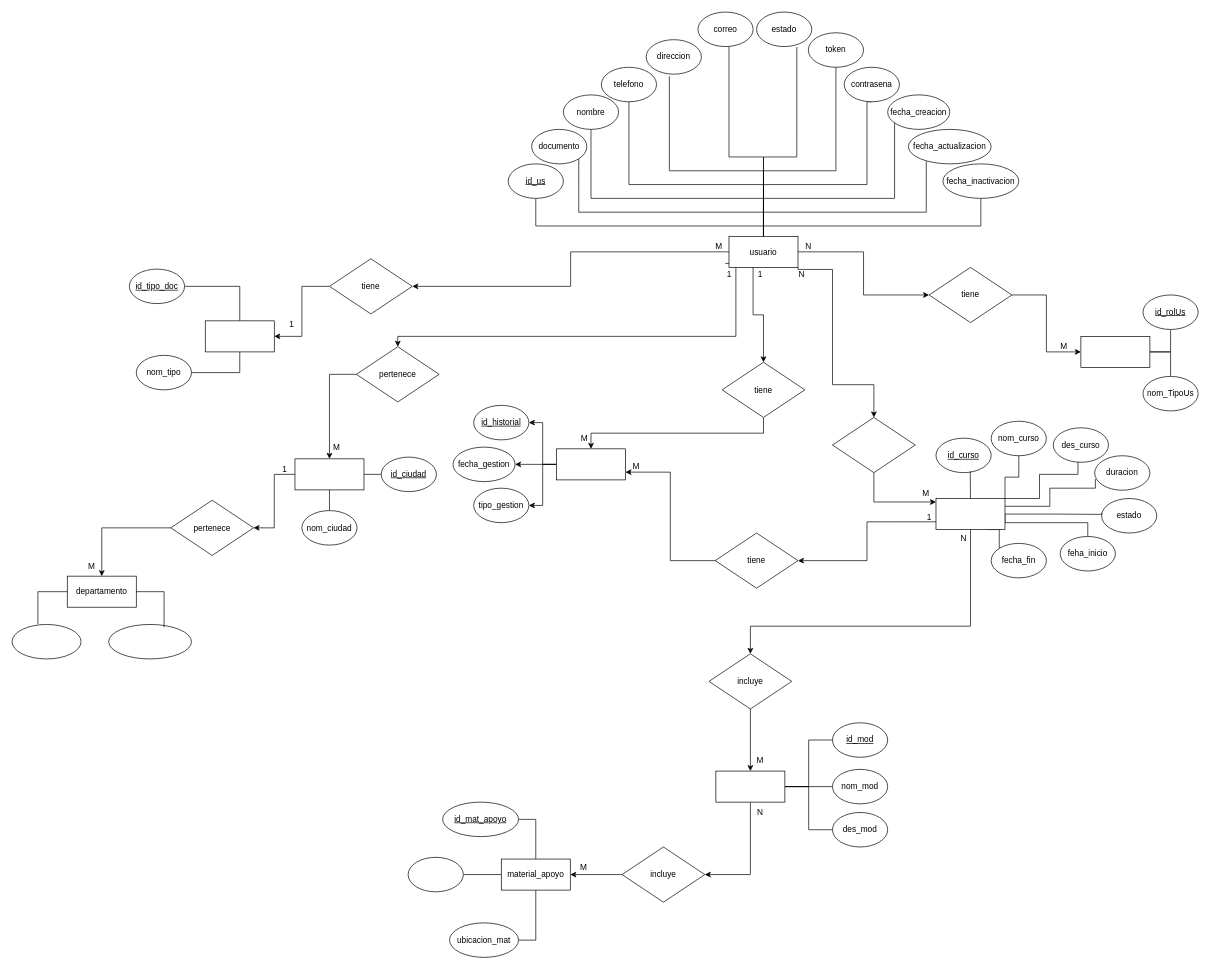
Some shapes in this 1210 by 969 pixel diagram are drawn without their labels. Here are the shapes that lost their labels. From the top down, the centre of each, then its label:
(239,336): tipo_doc
(1115,351): Rol_us
(590,464): historial
(873,445): realiza
(329,474): ciudad
(970,514): curso
(46,641): id_departamento
(149,641): nom_departamento
(750,786): modulos
(435,874): nom_act
